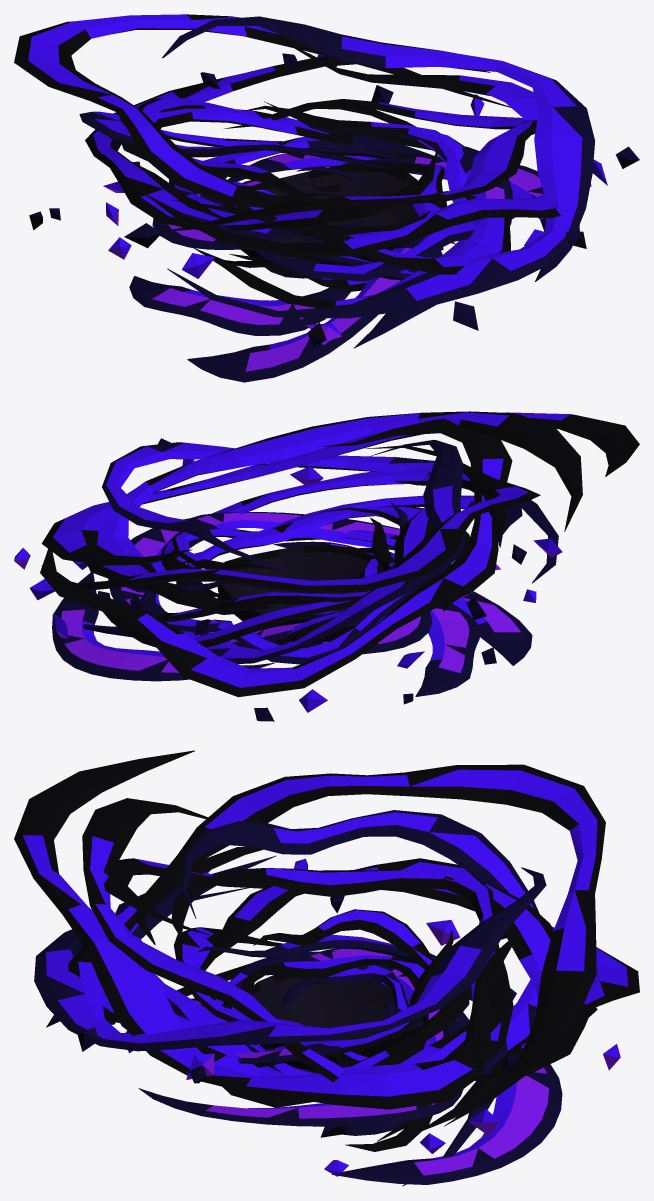
Rendered from Black_Hole.fbx.
The picture shows the model from 3 angles, top to bottom: view 1: azimuth 30°, elevation 25°; view 2: azimuth 150°, elevation 25°; view 3: azimuth 270°, elevation 25°; orthographic projection. The views are drawn at different scales.
Parts seen in each view (by area): view 1: Gravity_Arc_16, VOID_IMPLOSION, Gravity_Arc_17, Gravity_Arc_18, Gravity_Arc_15, Gravity_Arc_14, Recessed_Singularity, Gravity_Arc_12, Gravity_Arc_08, Gravity_Arc_09, Gravity_Arc_13, Gravity_Arc_10 (+5 smaller); view 2: VOID_IMPLOSION, Gravity_Arc_15, Gravity_Arc_14, Gravity_Arc_18, Gravity_Arc_17, Gravity_Arc_16, Gravity_Arc_13, Recessed_Singularity, Gravity_Arc_11, Gravity_Arc_12, Gravity_Arc_07, Gravity_Arc_06 (+5 smaller); view 3: Gravity_Arc_18, Gravity_Arc_17, VOID_IMPLOSION, Gravity_Arc_16, Gravity_Arc_13, Gravity_Arc_14, Gravity_Arc_11, Gravity_Arc_15, Recessed_Singularity, Gravity_Arc_12, Gravity_Arc_09, Gravity_Arc_05 (+7 smaller).
Boxes of the visible parts, x1,y1,x2,y2 form: Gravity_Arc_16: (162,16,594,318); VOID_IMPLOSION: (103,54,607,382); Gravity_Arc_17: (14,14,510,207); Gravity_Arc_18: (143,38,560,256); Gravity_Arc_15: (85,56,490,230); Gravity_Arc_14: (159,99,537,232); Recessed_Singularity: (224,163,418,278); Gravity_Arc_12: (172,103,535,274); Gravity_Arc_08: (193,105,475,307); Gravity_Arc_09: (121,108,430,234); Gravity_Arc_13: (79,111,401,169); Gravity_Arc_10: (183,101,476,281); VOID_IMPLOSION: (29,459,562,712); Gravity_Arc_15: (40,418,512,697); Gravity_Arc_14: (87,411,582,610); Gravity_Arc_18: (41,412,639,565); Gravity_Arc_17: (41,445,540,593); Gravity_Arc_16: (102,442,558,583); Gravity_Arc_13: (83,440,465,663); Recessed_Singularity: (217,544,385,642); Gravity_Arc_11: (103,481,435,647); Gravity_Arc_12: (161,467,506,570); Gravity_Arc_07: (139,502,423,664); Gravity_Arc_06: (176,506,469,604); Gravity_Arc_18: (14,750,520,1109); Gravity_Arc_17: (136,764,605,1126); VOID_IMPLOSION: (46,870,620,1184); Gravity_Arc_16: (34,867,546,1051); Gravity_Arc_13: (182,810,539,1186); Gravity_Arc_14: (82,798,508,1081); Gravity_Arc_11: (171,868,553,1133); Gravity_Arc_15: (103,858,639,1081); Recessed_Singularity: (251,965,428,1073); Gravity_Arc_12: (68,846,469,1107); Gravity_Arc_09: (199,858,513,1141); Gravity_Arc_05: (253,909,433,1151).
Bounding box in the file's own units: 870 × 329 × 872.
